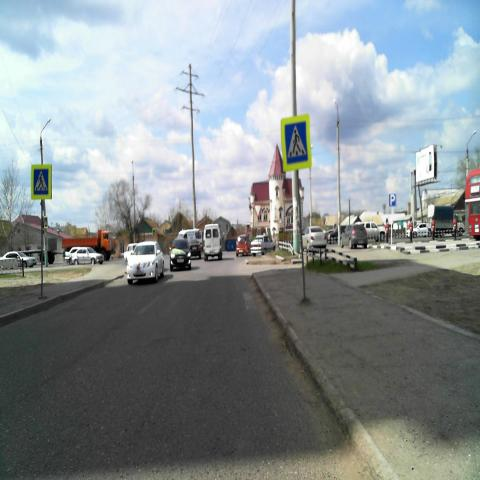6_4: (388, 191, 396, 208)
